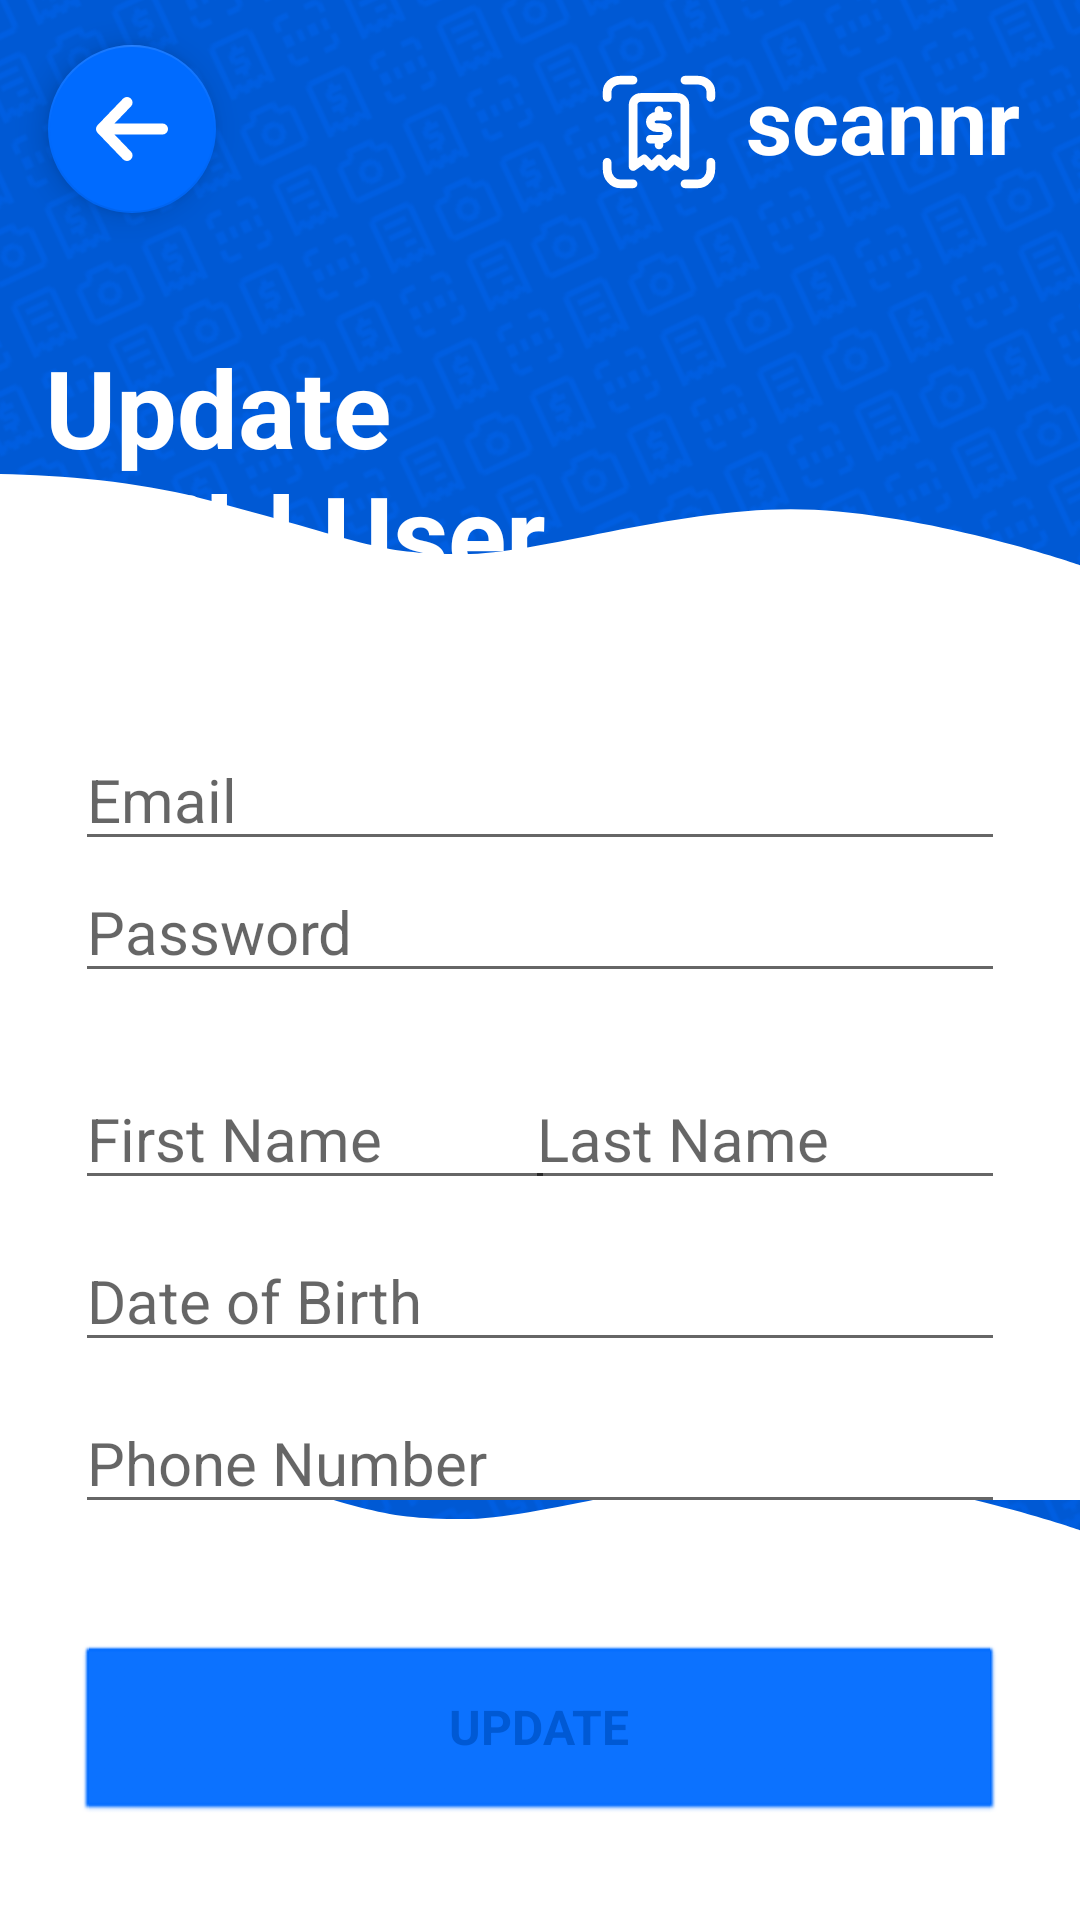

Named icons in this screenshot (1080 x 1920) and their bounding boxes, (x1, y1, x2, y2):
Back: (48, 45, 216, 213)
